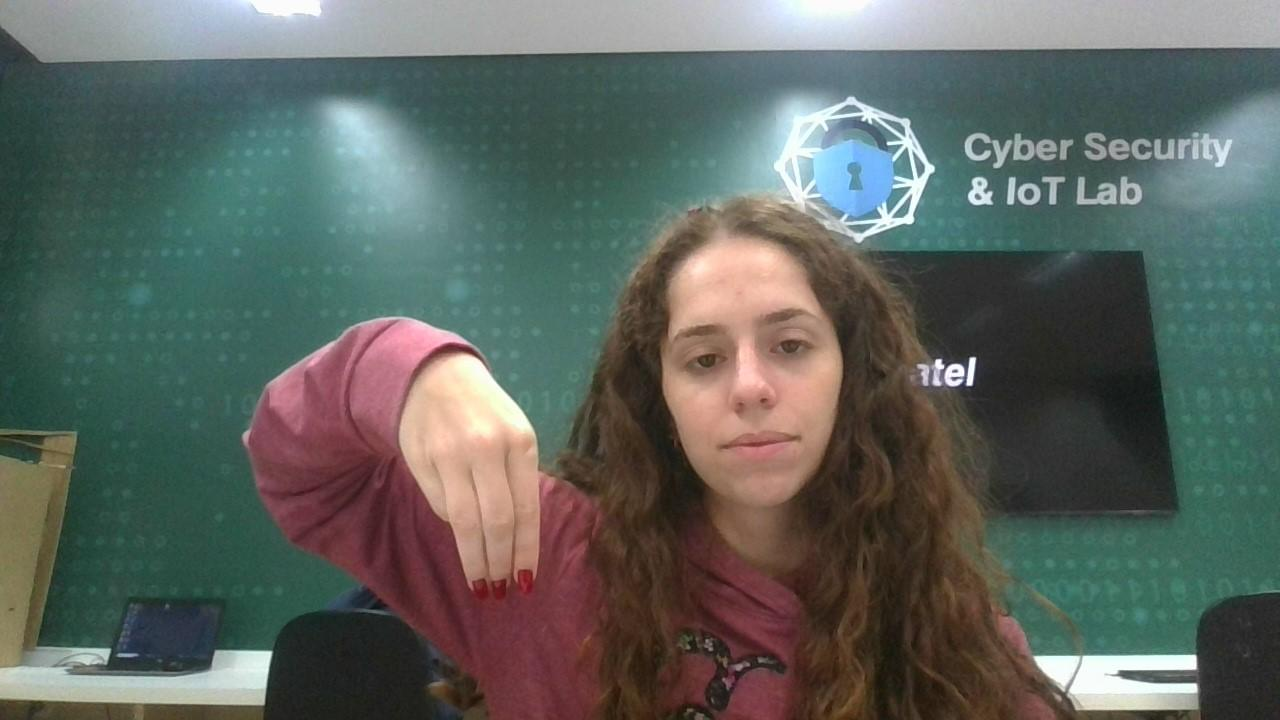M: (405, 348, 568, 620)
